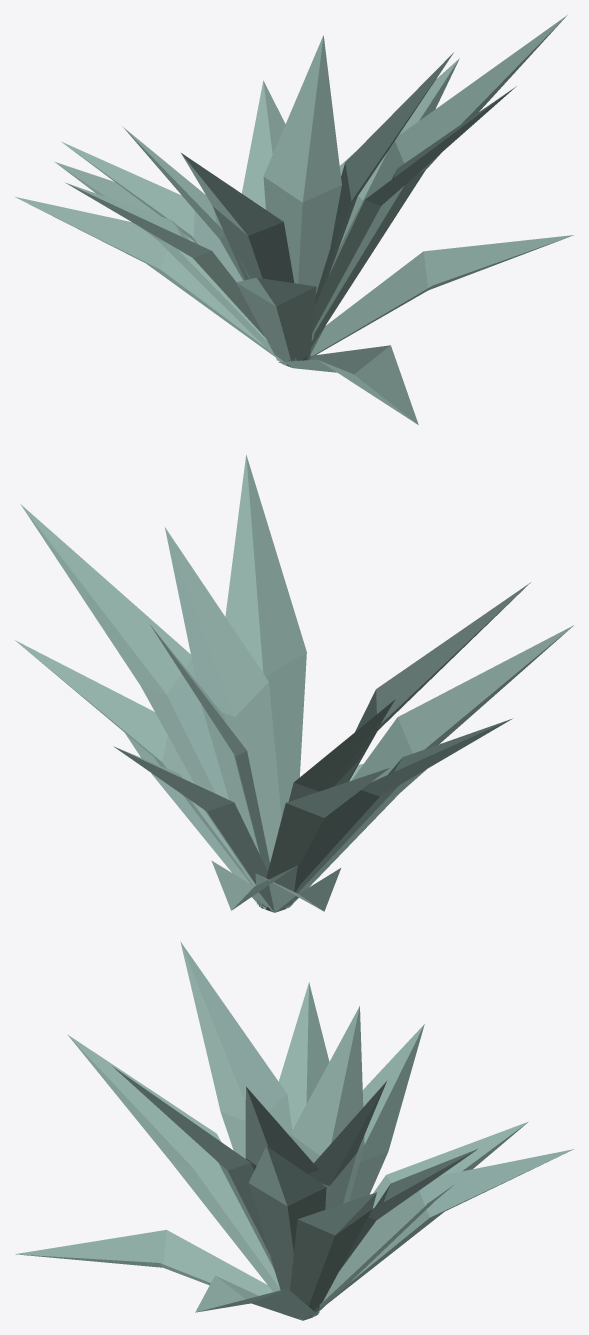
File: agave.glb
3 views of the same model, one above another, from view 1: azimuth 30°, elevation 25°; view 2: azimuth 150°, elevation 25°; view 3: azimuth 270°, elevation 25° (orthographic). The views are drawn at different scales.
Visible parts, largest first — view 1: SG_Agave; view 2: SG_Agave; view 3: SG_Agave.
Part boxes in pixels (x1,y1,x2,y2): SG_Agave: (15, 15, 573, 424); SG_Agave: (15, 455, 573, 912); SG_Agave: (15, 941, 574, 1320).
Bounding box in the file's own units: 1.4 × 0.8975 × 1.45.
